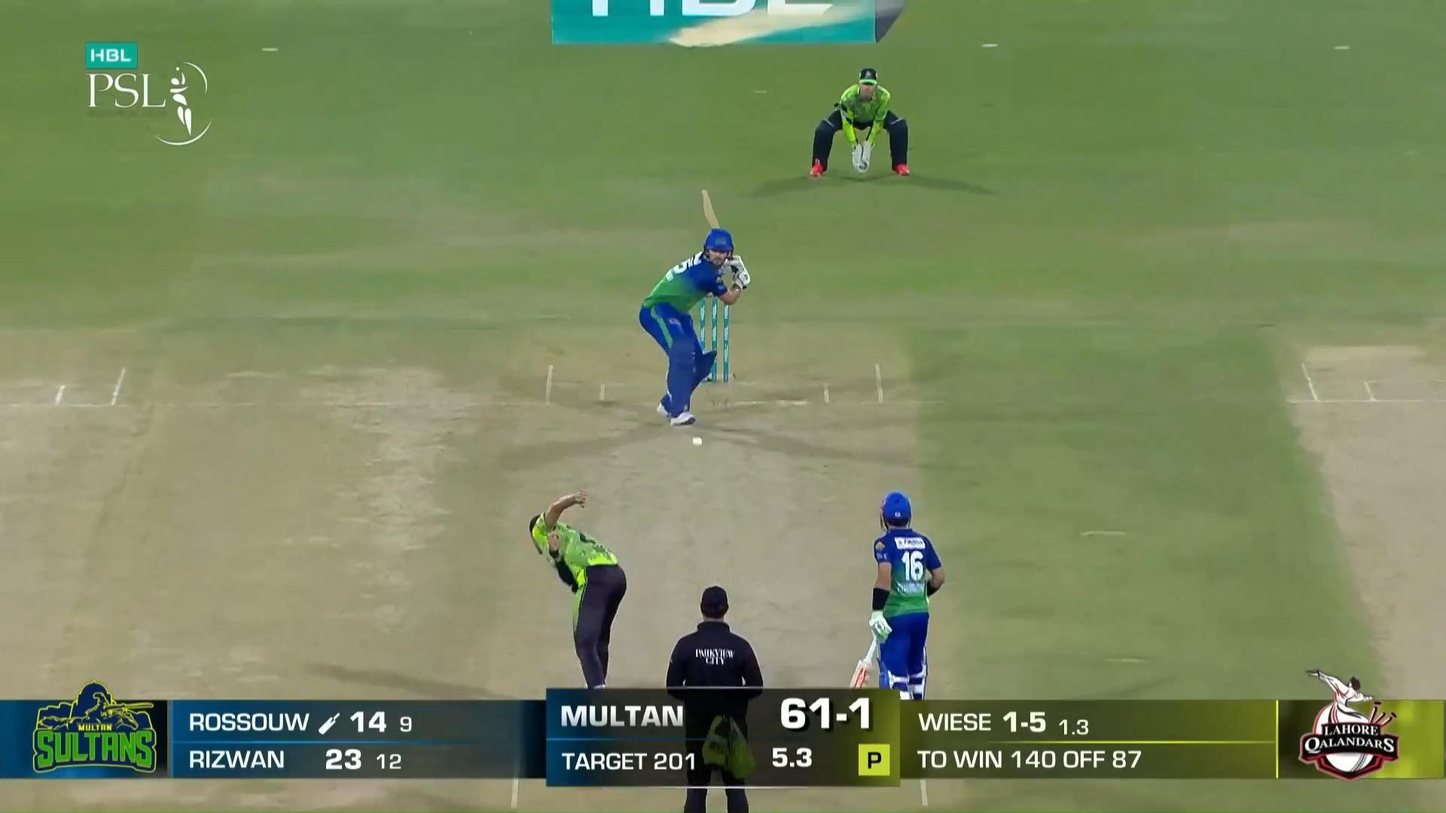batsman: (639, 188, 752, 426)
